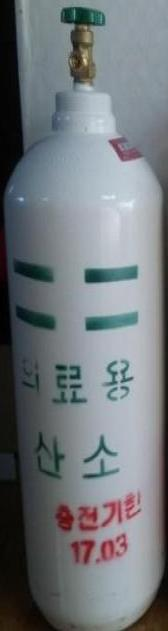cylinder: (0, 1, 168, 631)
